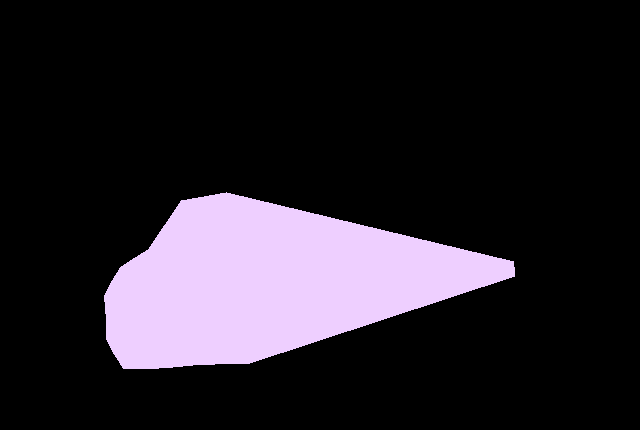Train: (104, 192, 514, 369)
